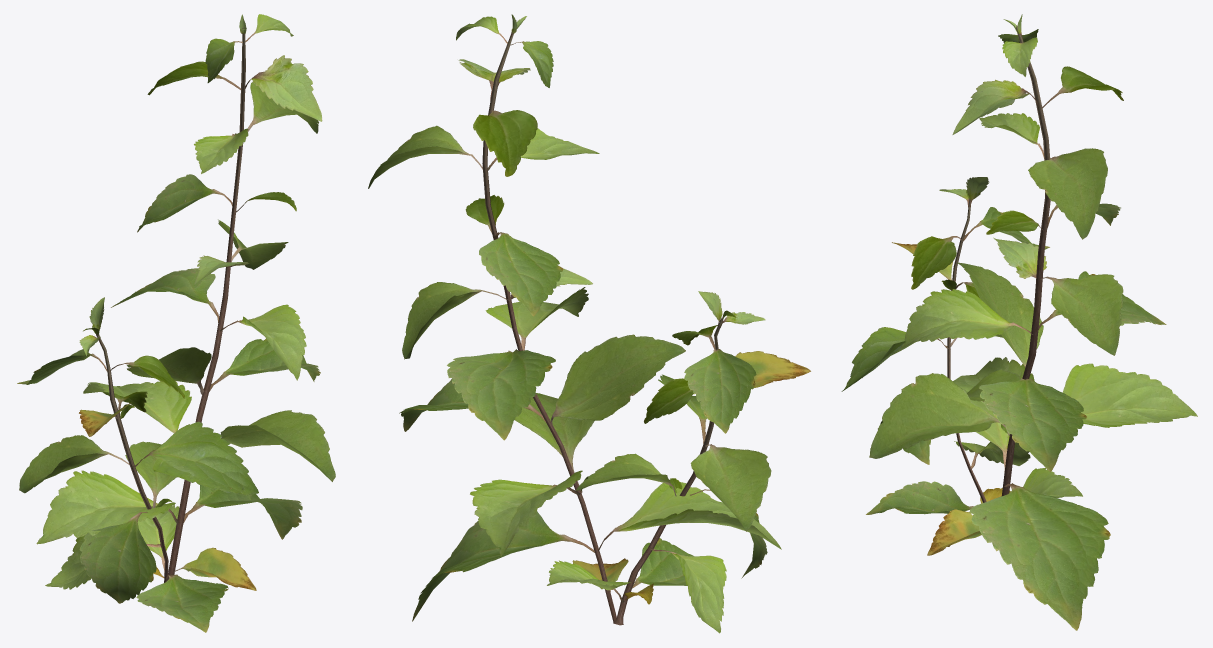
Rendered from shrub_01_a_LOD1.glb.
The picture shows the model from 3 angles, left to right: view 1: azimuth 30°, elevation 25°; view 2: azimuth 150°, elevation 25°; view 3: azimuth 270°, elevation 25°; orthographic projection. The views are drawn at different scales.
Parts seen in each view (by area): view 1: shrub_01_a_LOD1__lod0; view 2: shrub_01_a_LOD1__lod0; view 3: shrub_01_a_LOD1__lod0.
Boxes of the visible parts, bbox=[...] form: shrub_01_a_LOD1__lod0: bbox=[17, 14, 335, 632]; shrub_01_a_LOD1__lod0: bbox=[368, 14, 810, 633]; shrub_01_a_LOD1__lod0: bbox=[841, 14, 1197, 630].
Size of what is drawn, in the model's own units: 0.2308 by 0.3719 by 0.2057.
1 material, 1 textured.
